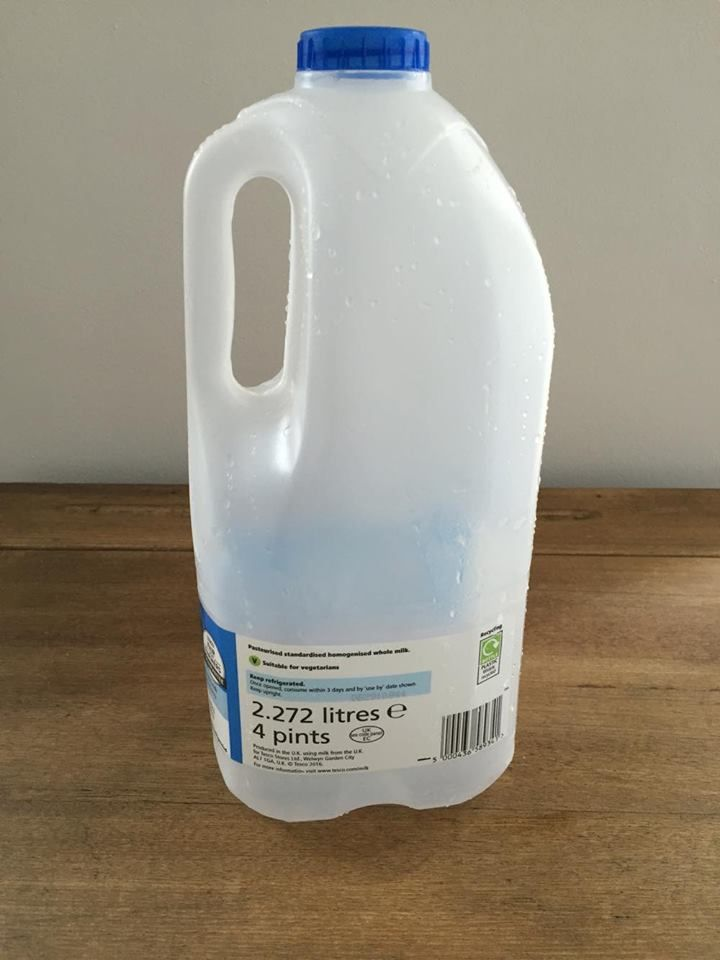plastic: (179, 22, 557, 831)
